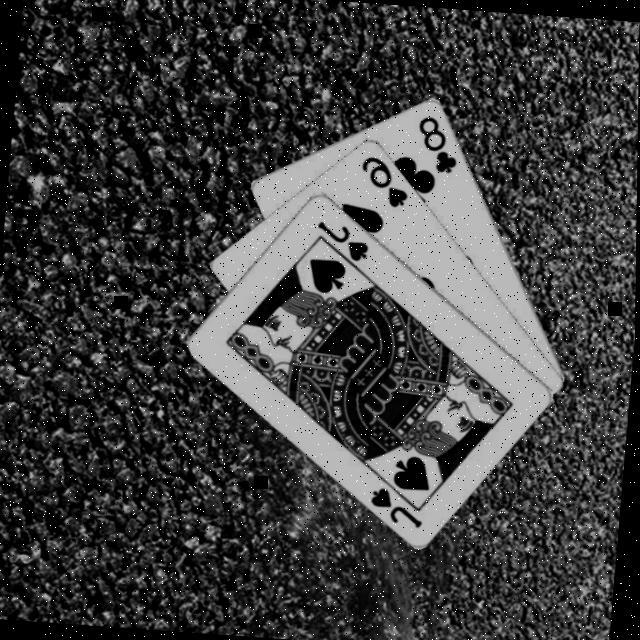6S: (356, 153, 414, 213)
8C: (412, 112, 464, 178)
JS: (366, 484, 430, 533), (311, 218, 375, 266)
